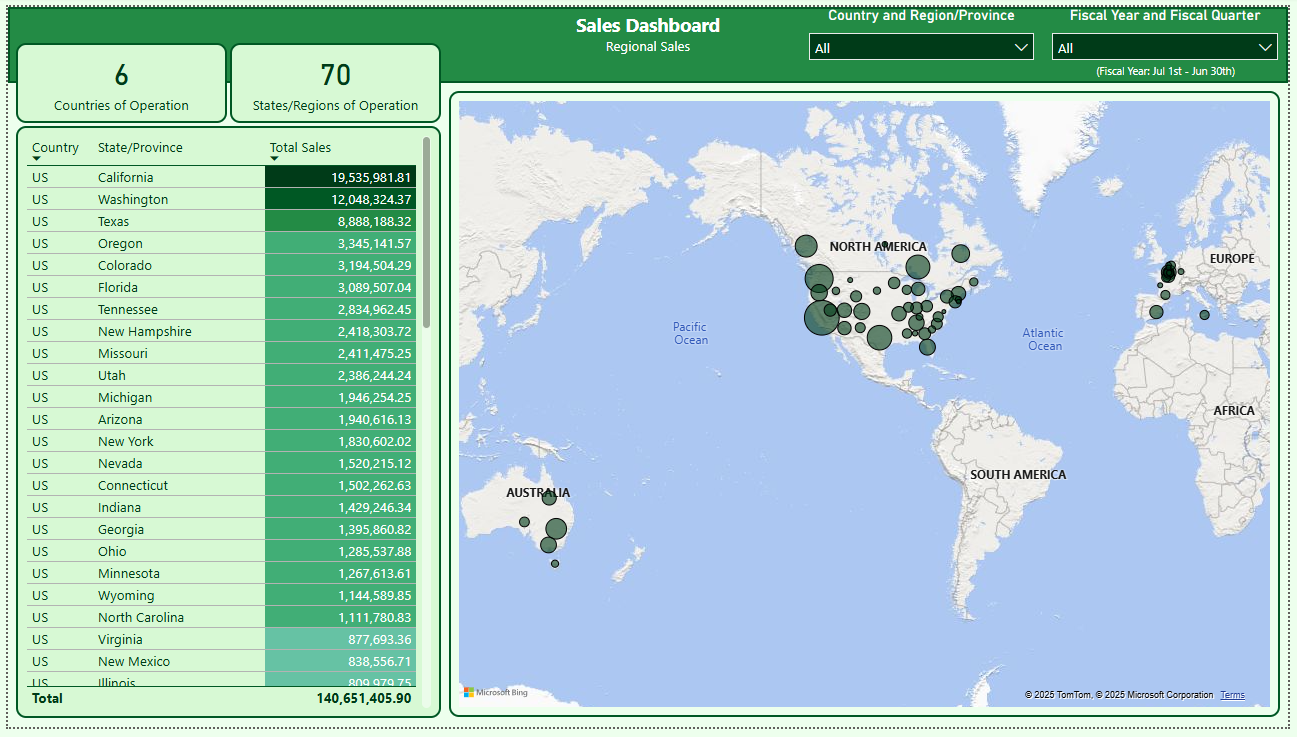

The page's visual inventory and layout, read from the dashboard file:
{"tool":"powerbi","page":{"name":"Geography","canvas":[1280,720],"ordinal":3},"visuals":[{"type":"map","fields":{"Category":["Geographical.ship_province"],"Size":["Sum(Geographical.TotalDue)"],"Series":["Geographical.CountryName"]},"box":[440.6,83.6,831.6,626.4],"z":0},{"type":"shape","box":[0,0,1280,76],"z":1000},{"type":"textbox","box":[486.8,0,305.9,63.8],"z":2000},{"type":"slicer","title":"Fiscal Year and Fiscal Quarter","fields":{"Values":["SalesOrderHeader.FiscalYear","SalesOrderHeader.FiscalQuarter"]},"box":[1034.1,0,245.9,64.3],"z":4000},{"type":"slicer","title":"Country and Region/Province","fields":{"Values":["Geographical.CountryName","Geographical.country_state_name"]},"box":[790.6,0,245.9,64.3],"z":5000},{"type":"tableEx","fields":{"Values":["Geographical.country_code","Geographical.country_state_name","Sum(Geographical.TotalDue)"]},"box":[7.8,118.7,425,592.3],"z":6000},{"type":"textbox","box":[6.8,15.6,251.9,100.2],"z":7000},{"type":"card","fields":{"Values":["Count(Geographical.country_code)"]},"box":[265.5,36,167.3,79.8],"z":8000},{"type":"textbox","box":[1070.9,48.6,173.1,30.2],"z":9000}]}

Visuals, with their boxes in screenshot pixels (x1, y1, x2, y2), scaled from the page's 1280x720 canvas onto the 1297x737 screenshot:
map - Geographical.ship_province x Sum(Geographical.TotalDue): bbox(446, 86, 1289, 727)
shape: bbox(0, 0, 1296, 78)
textbox: bbox(493, 0, 803, 65)
"Fiscal Year and Fiscal Quarter" slicer: bbox(1048, 0, 1296, 66)
"Country and Region/Province" slicer: bbox(801, 0, 1050, 66)
tableEx - Geographical.country_code x Geographical.country_state_name: bbox(8, 122, 439, 728)
textbox: bbox(7, 16, 262, 119)
card - Count(Geographical.country_code): bbox(269, 37, 439, 119)
textbox: bbox(1085, 50, 1261, 81)
